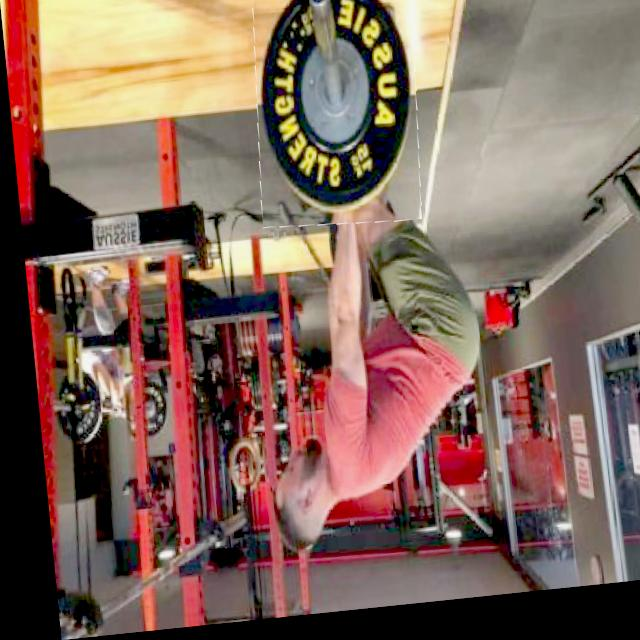barbell: (243, 1, 427, 239)
